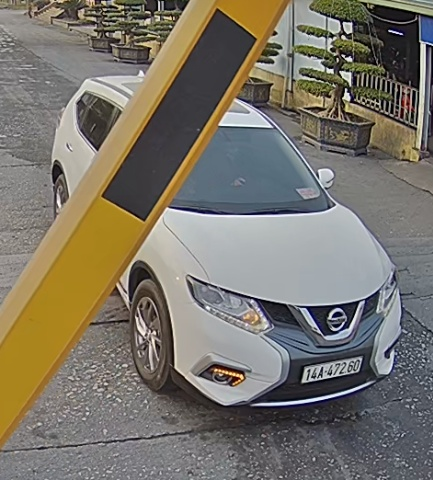vehicle plate: (296, 352, 369, 392)
